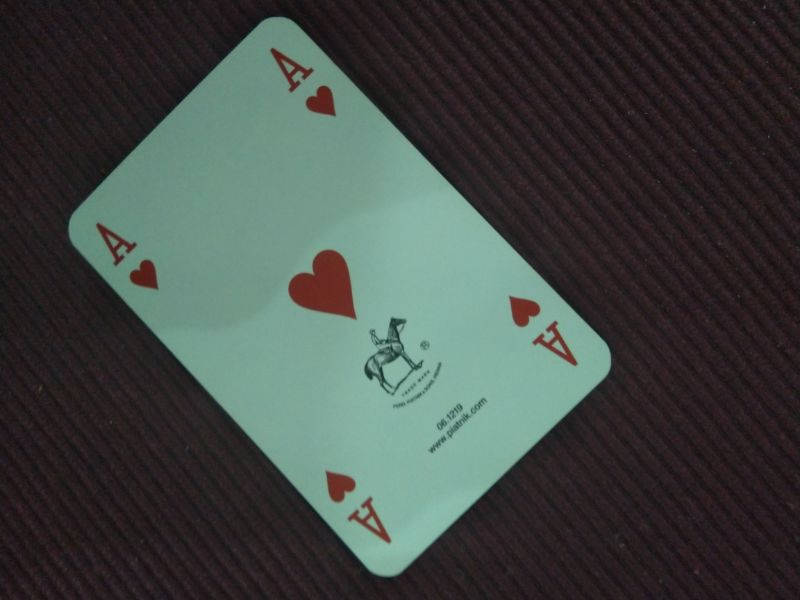Ah: (505, 290, 582, 371), (319, 467, 394, 547), (267, 43, 341, 121), (93, 218, 162, 294)
